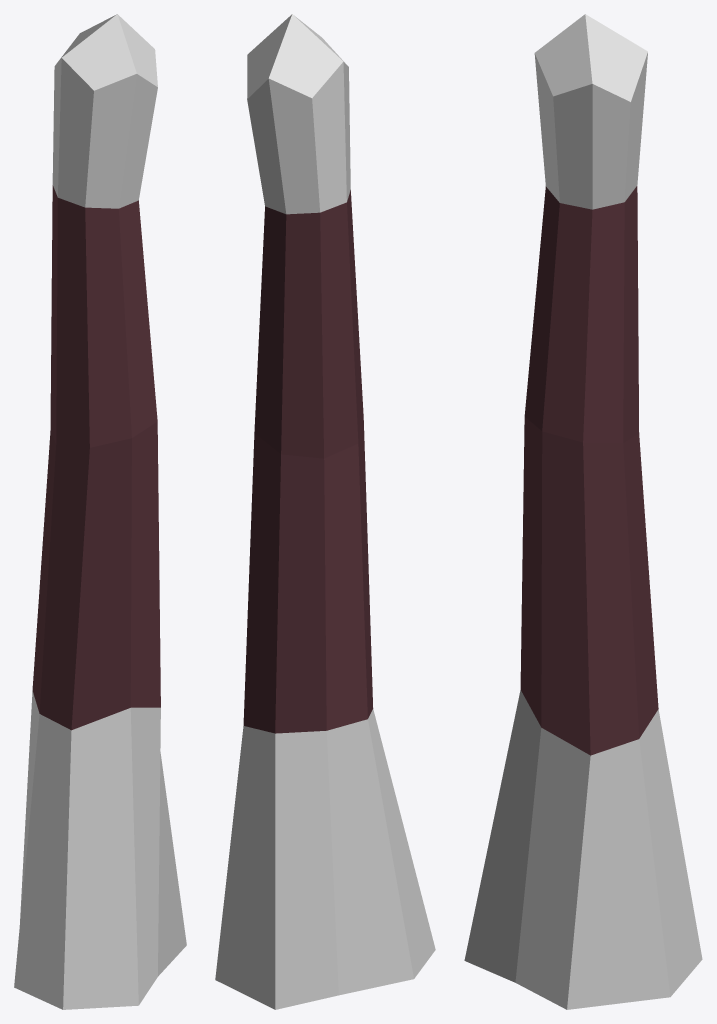
Rendered from scifi-scifi-tree-orb-small.glb.
3 views of the same model, side by side, from view 1: azimuth 30°, elevation 25°; view 2: azimuth 150°, elevation 25°; view 3: azimuth 270°, elevation 25° (orthographic). The views are drawn at different scales.
Visible parts, largest first — view 1: scifi-tree-orb-small; view 2: scifi-tree-orb-small; view 3: scifi-tree-orb-small.
Boxes of the visible parts, x1,y1,x2,y2 form: scifi-tree-orb-small: (14, 14, 186, 1009); scifi-tree-orb-small: (215, 14, 435, 1009); scifi-tree-orb-small: (464, 14, 702, 1009).
Size of the model in its own units: 0.4435 by 2.3 by 0.5148.
